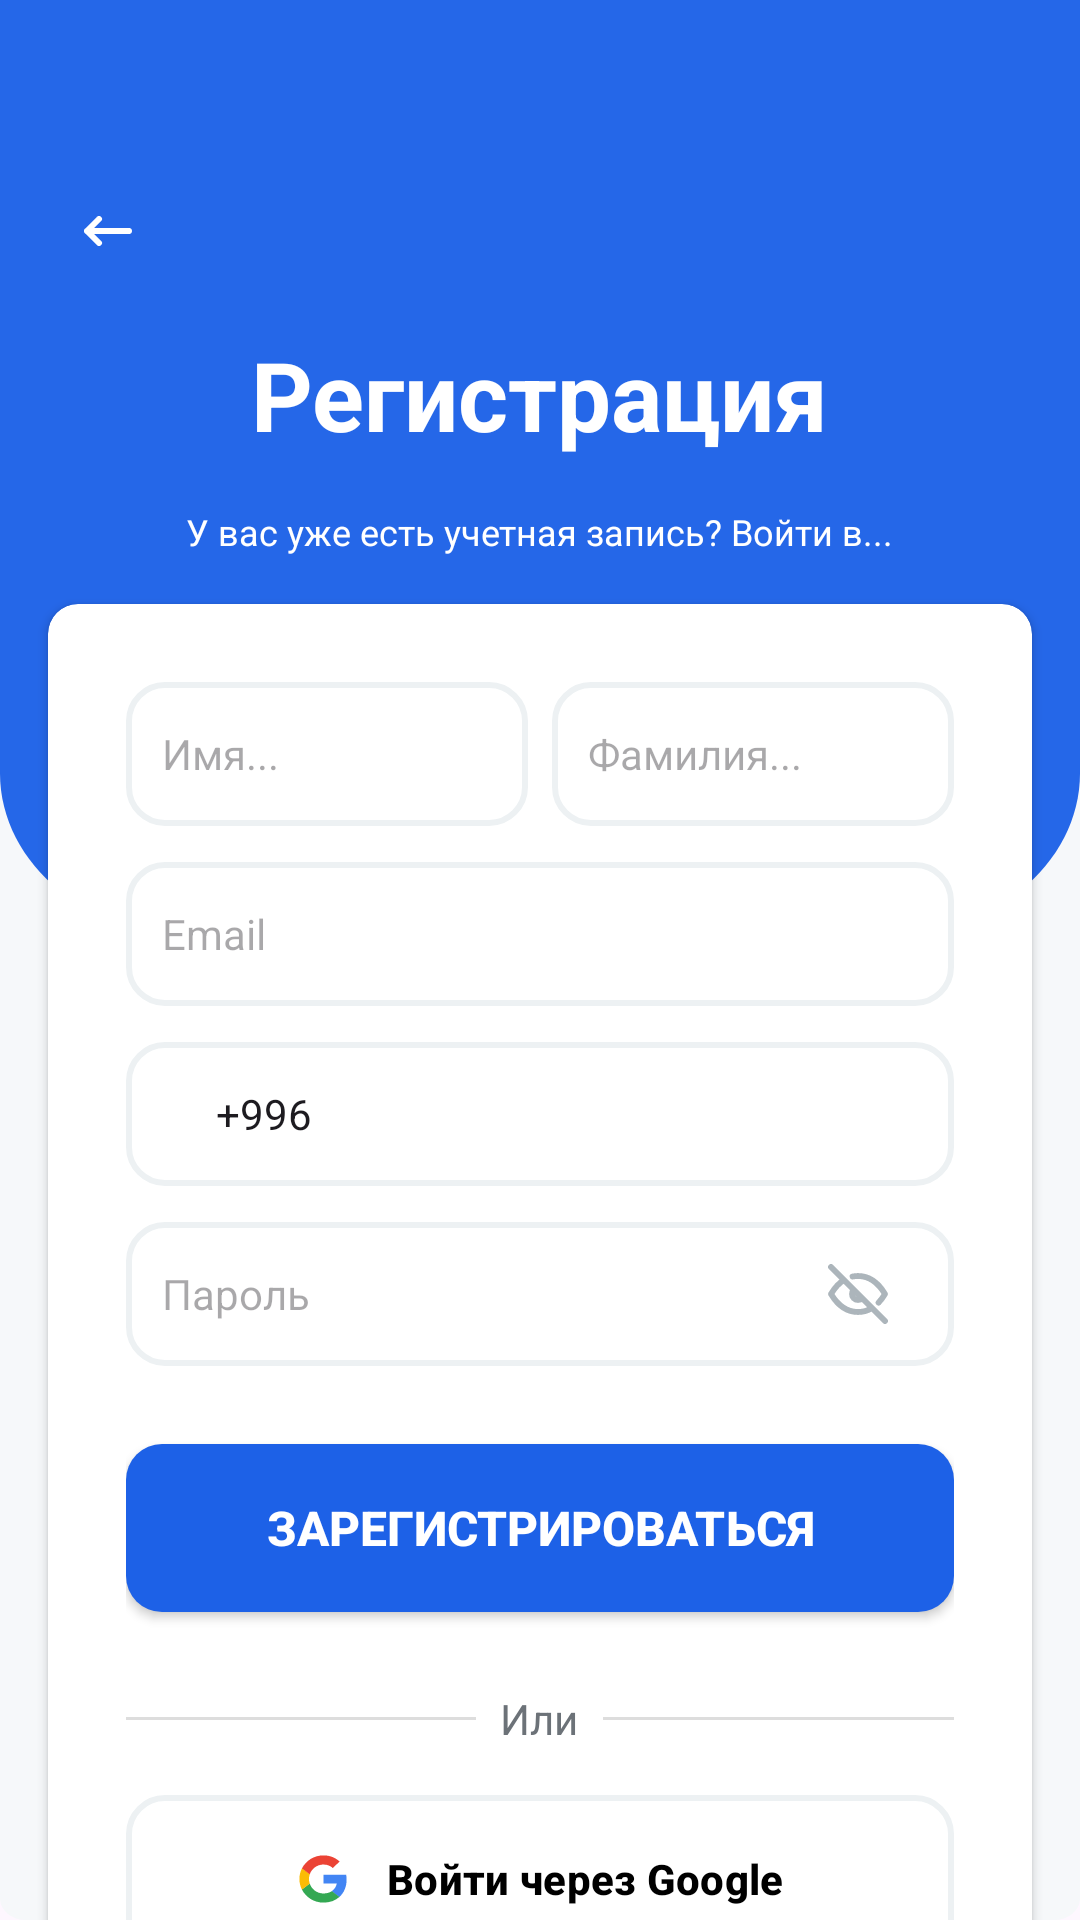

Screen size 1080 × 1920. Icon name, then its box in pixels as (x1, y1, x2, y2):
previous: (84, 216, 132, 246)
